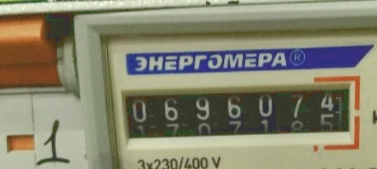0: (128, 98, 148, 123), (255, 92, 273, 118)
4: (317, 90, 333, 112)
5: (318, 113, 334, 133)
6: (223, 93, 242, 120), (160, 96, 179, 122)
7: (287, 92, 304, 119)
9: (192, 95, 209, 121)
screen: (110, 73, 364, 159)
